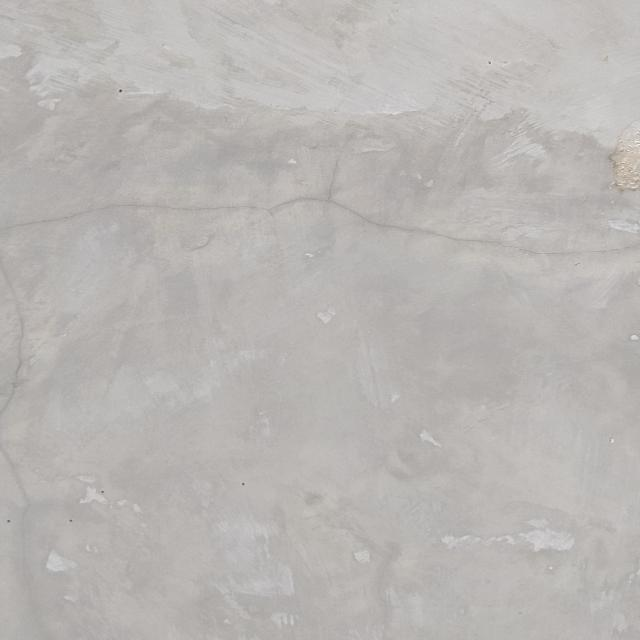Crack: (2, 193, 640, 255)
